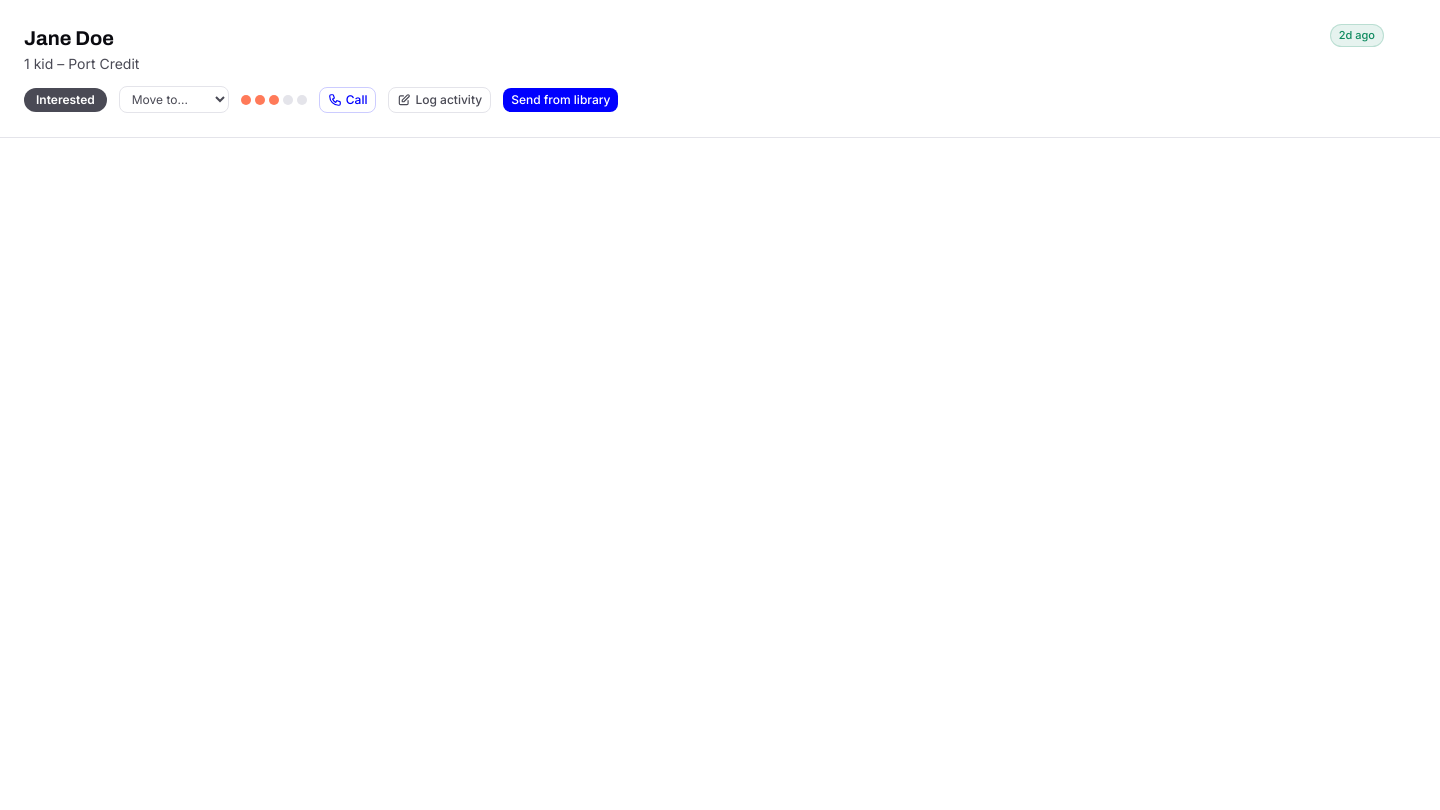
Test case: Contact Drawer - Send from library integration › clicking 'Send from library' opens library item picker
Click the button "Send from library": [561, 100] box [503,88,618,112]
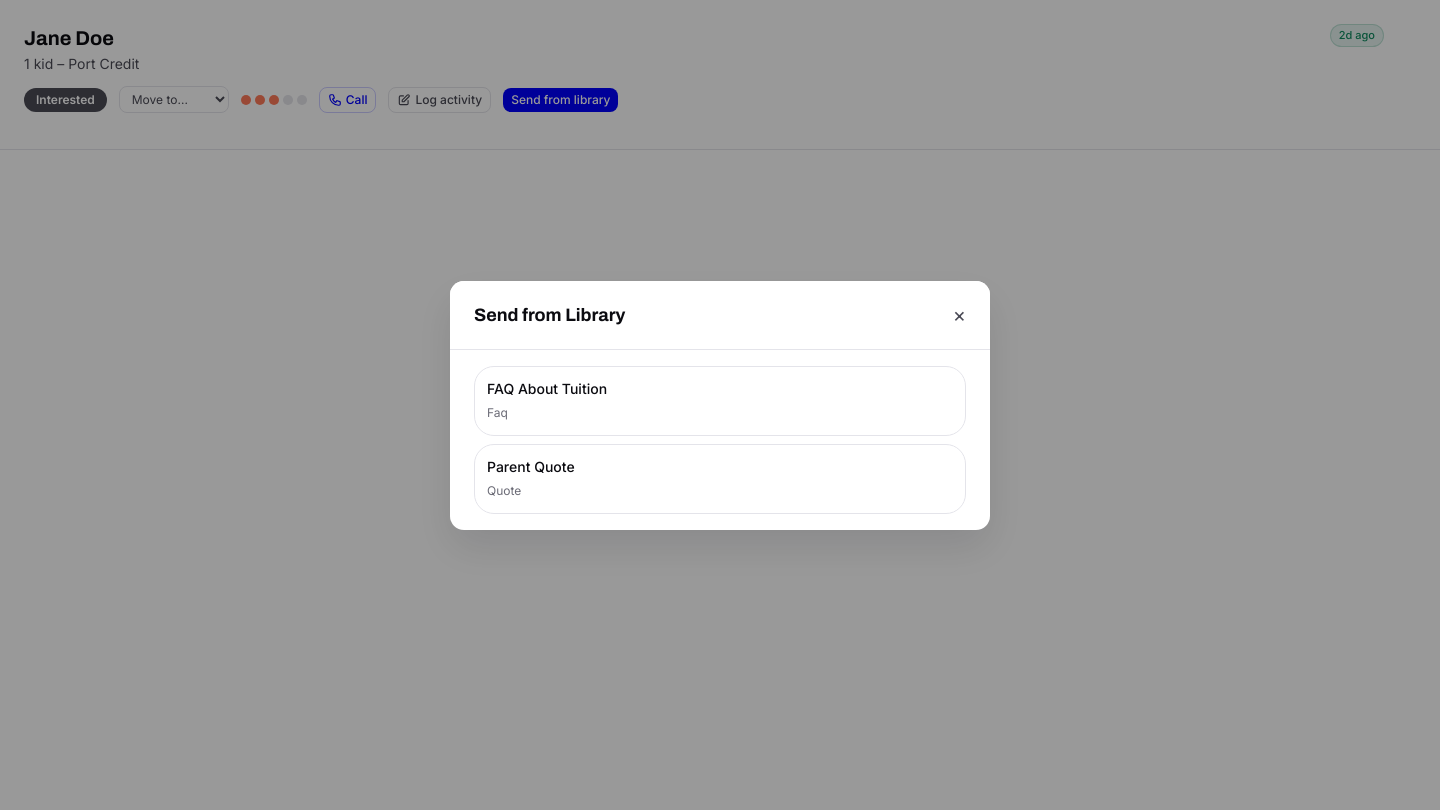
Expected: the heading "Send from Library" is shown, [474,300,625,328]
Expected: the text "FAQ About Tuition" is shown, [487,380,607,396]
Expected: the text "Parent Quote" is shown, [487,458,575,474]
